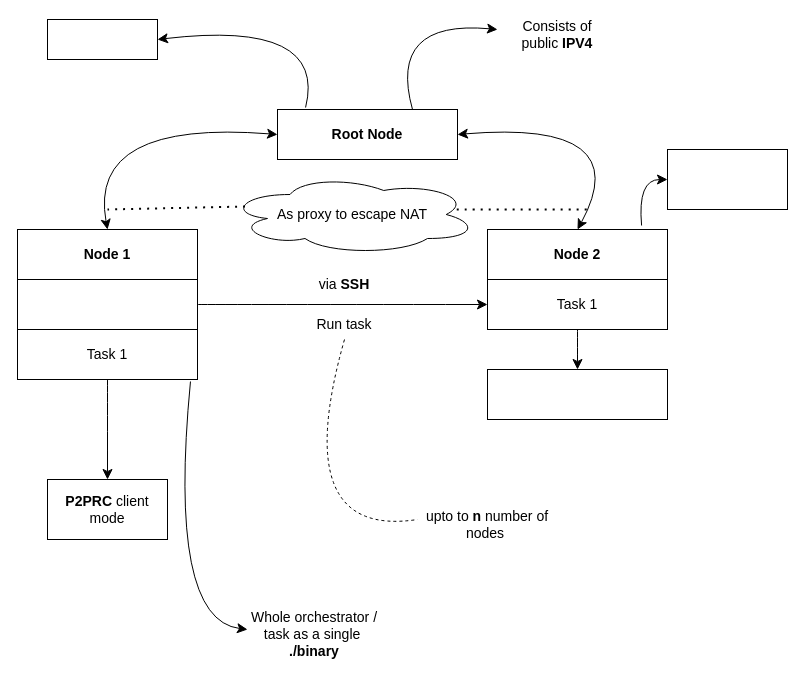
Image size: 805x676. Some labels were removed from this diagram. Each missing label, with the centre of its shape:
Exposes port via P2PRC: (577,394)
P2PRC Node: (102,39)
P2PRC server mode: (727,179)
Process manager: (107,304)
